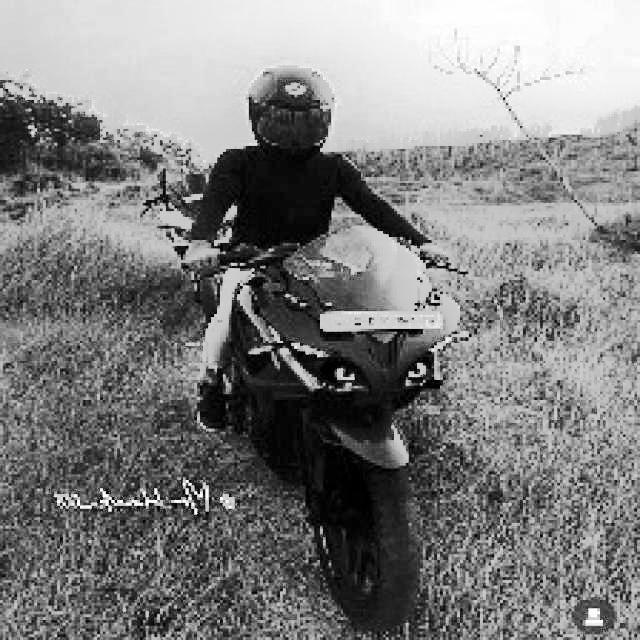Bike: (235, 232, 489, 624)
